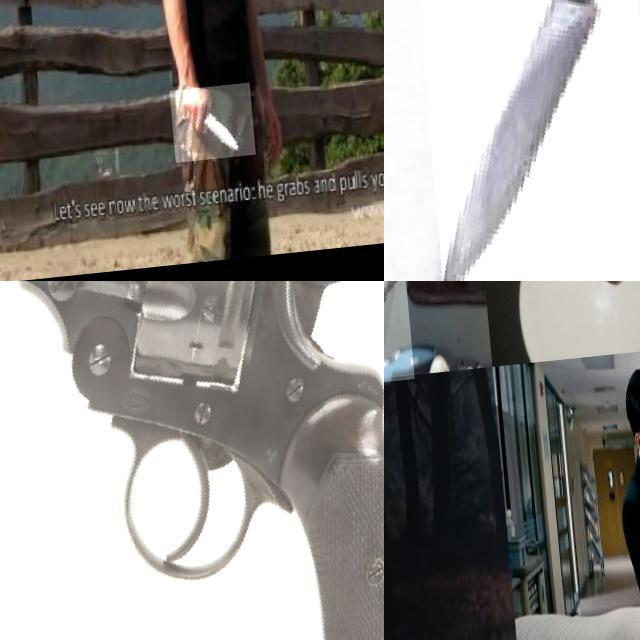-: (405, 0, 640, 281), (161, 88, 246, 167)
gun-knife-thesis - v11 Yolov5 augmented: (0, 281, 384, 640), (472, 281, 640, 389), (384, 281, 439, 392), (384, 567, 414, 640)
